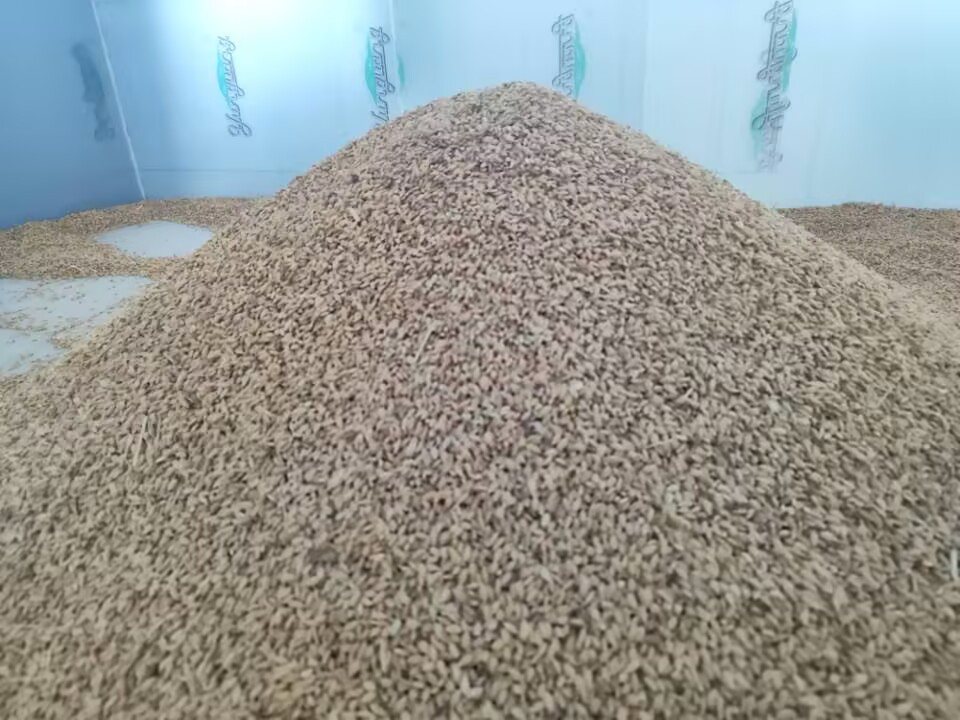Grain: (152, 39, 866, 628)
